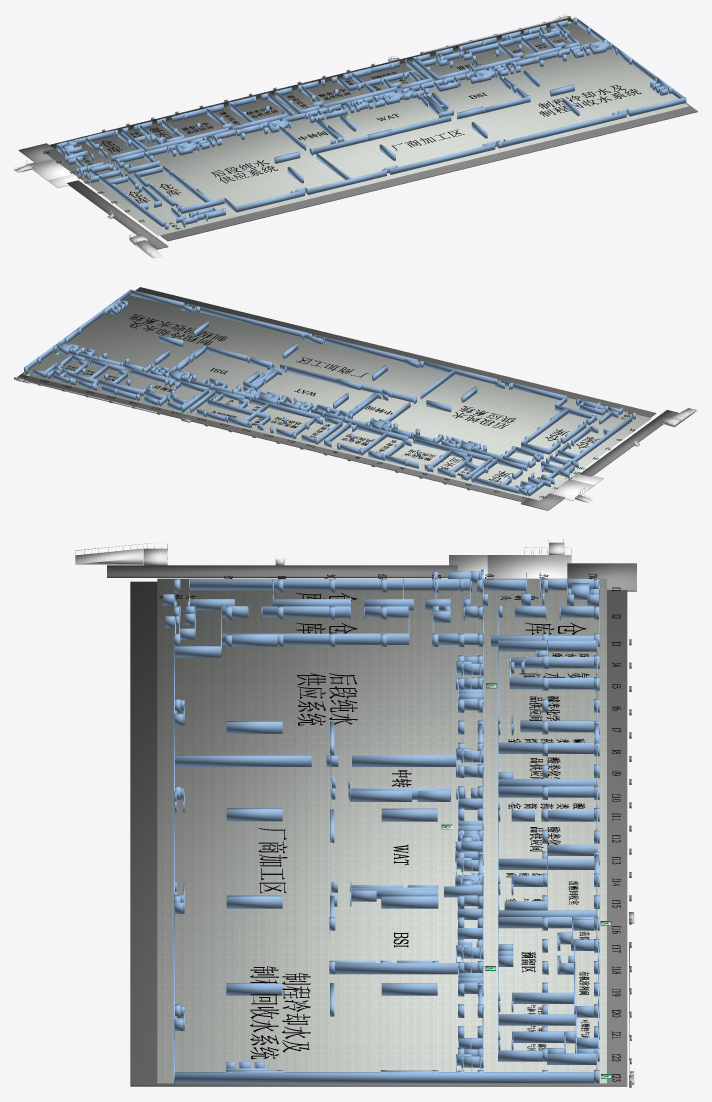
The model's file is 1f_mini.gltf.
3 views of the same model, one above another, from view 1: azimuth 30°, elevation 25°; view 2: azimuth 150°, elevation 25°; view 3: azimuth 270°, elevation 25° (orthographic). The views are drawn at different scales.
Parts seen in each view (by area): view 1: fab_n2_dimian_1f, fab_n2_waiguan_1_55, fab_n2_waiguan_1_138, fab_n2_qiang_1f_506, fab_n2_qiang_1f_517, fab_n2_qiang_1f_496, zhileng, fab_n2_waiguan_1_139, fab_n2_qiang_1f_488, fab_n2_qiang_1f_280, fab_n2_qiang_1f_300, fab_n2_qiang_1f_3 (+2 smaller); view 2: fab_n2_dimian_1f, fab_n2_waiguan_1_55, fab_n2_waiguan_1_138, fab_n2_qiang_1f_506, zhileng, fab_n2_qiang_1f_517, fab_n2_qiang_1f_496, fab_n2_waiguan_1_139, fab_n2_qiang_1f_488, fab_n2_qiang_1f_280, fab_n2_qiang_1f_374, fab_n2_qiang_1f_3 (+5 smaller); view 3: fab_n2_dimian_1f, fab_n2_waiguan_1_55, fab_n2_qiang_1f_3, fab_n2_waiguan_1_138, fab_n2_qiang_1f_280, zhileng, fab_n2_waiguan_1_139, fab_n2_qiang_1f_514, fab_n2_qiang_1f_304, fab_n2_qiang_1f_475, fab_n2_waiguan_1_57, fab_n2_qiang_1f_515 (+12 smaller).
Part boxes in pixels (box(x1,y1,x2,y2)): fab_n2_dimian_1f: box(43, 22, 688, 235); fab_n2_waiguan_1_55: box(49, 18, 697, 241); fab_n2_waiguan_1_138: box(67, 180, 168, 249); fab_n2_qiang_1f_506: box(501, 111, 626, 147); fab_n2_qiang_1f_517: box(312, 115, 451, 154); fab_n2_qiang_1f_496: box(390, 143, 495, 174); zhileng: box(538, 85, 641, 116); fab_n2_waiguan_1_139: box(26, 159, 72, 180); fab_n2_qiang_1f_488: box(308, 170, 386, 194); fab_n2_qiang_1f_280: box(89, 168, 161, 226); fab_n2_qiang_1f_300: box(236, 190, 304, 212); fab_n2_qiang_1f_3: box(577, 18, 684, 98); fab_n2_dimian_1f: box(23, 295, 651, 500); fab_n2_waiguan_1_55: box(17, 287, 656, 502); fab_n2_waiguan_1_138: box(580, 410, 678, 476); fab_n2_qiang_1f_506: box(188, 303, 308, 337); zhileng: box(129, 314, 227, 345); fab_n2_qiang_1f_517: box(280, 364, 415, 402); fab_n2_qiang_1f_496: box(315, 334, 417, 362); fab_n2_waiguan_1_139: box(550, 479, 594, 500); fab_n2_qiang_1f_488: box(423, 361, 497, 383); fab_n2_qiang_1f_280: box(561, 416, 632, 470); fab_n2_qiang_1f_374: box(413, 437, 492, 460); fab_n2_qiang_1f_3: box(26, 290, 130, 370); fab_n2_dimian_1f: box(157, 578, 606, 1083); fab_n2_waiguan_1_55: box(130, 581, 627, 1086); fab_n2_qiang_1f_3: box(175, 1072, 593, 1083); fab_n2_waiguan_1_138: box(107, 565, 457, 577); fab_n2_qiang_1f_280: box(190, 579, 470, 590); zhileng: box(250, 966, 310, 1059); fab_n2_waiguan_1_139: box(487, 555, 571, 578); fab_n2_qiang_1f_514: box(175, 755, 311, 766); fab_n2_qiang_1f_304: box(222, 633, 409, 644); fab_n2_qiang_1f_475: box(335, 963, 457, 974); fab_n2_waiguan_1_57: box(567, 563, 636, 591); fab_n2_qiang_1f_515: box(352, 755, 455, 766).
Bounding box in the file's own units: 349 × 4 × 152.
Materials: 12 (3 with a texture image).
